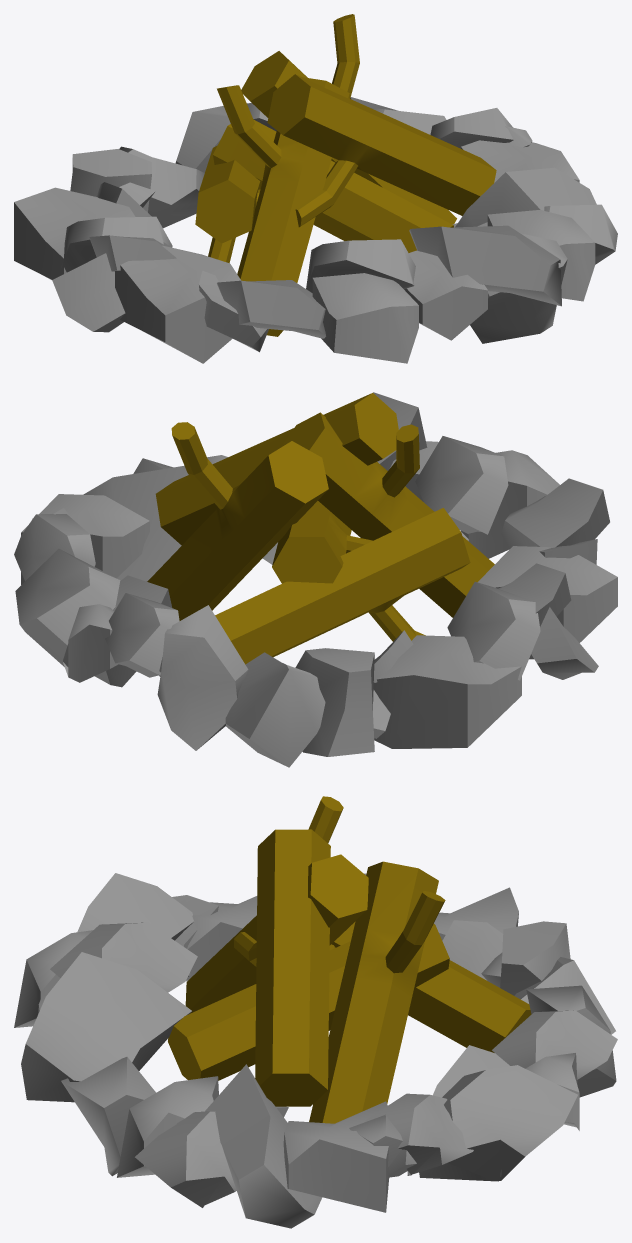
Rendered from Bonfire_v1_001.fbx.
3 views of the same model, one above another, from view 1: azimuth 30°, elevation 25°; view 2: azimuth 150°, elevation 25°; view 3: azimuth 270°, elevation 25° (orthographic). The views are drawn at different scales.
Parts seen in each view (by area): view 1: Bonfire_v1_001; view 2: Bonfire_v1_001; view 3: Bonfire_v1_001.
Part boxes in pixels (<box>): Bonfire_v1_001: <box>14,14,617,363</box>; Bonfire_v1_001: <box>14,392,617,767</box>; Bonfire_v1_001: <box>14,796,617,1228</box>.
Bounding box in the file's own units: 65.06 × 29.85 × 59.53.
